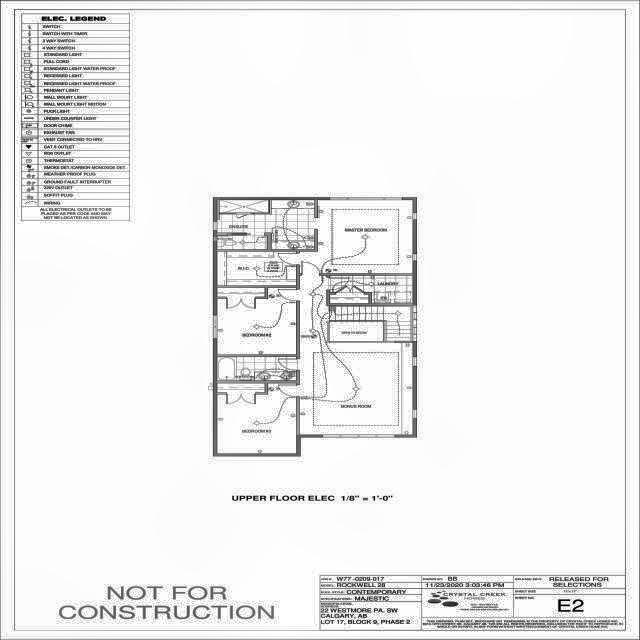room: (299, 200, 413, 274), (217, 383, 296, 454), (217, 288, 296, 355), (217, 251, 296, 286), (330, 276, 413, 304), (217, 357, 296, 381), (217, 236, 267, 250), (220, 200, 268, 213), (217, 383, 265, 392)
